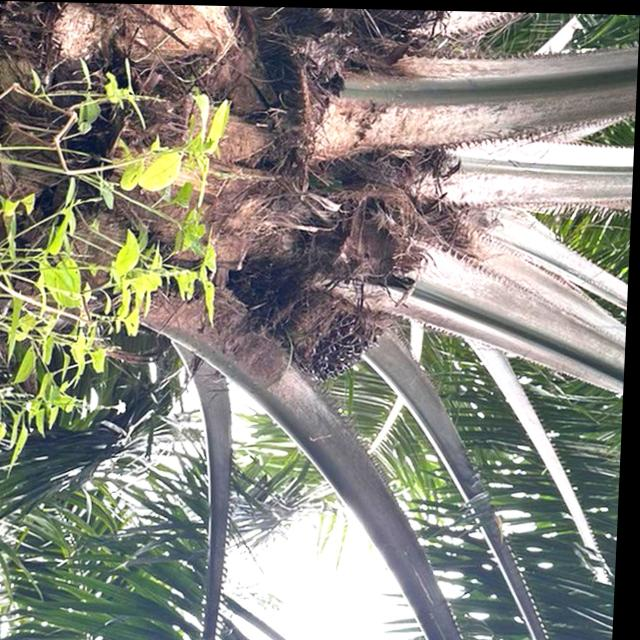almost: (266, 278, 389, 384)
